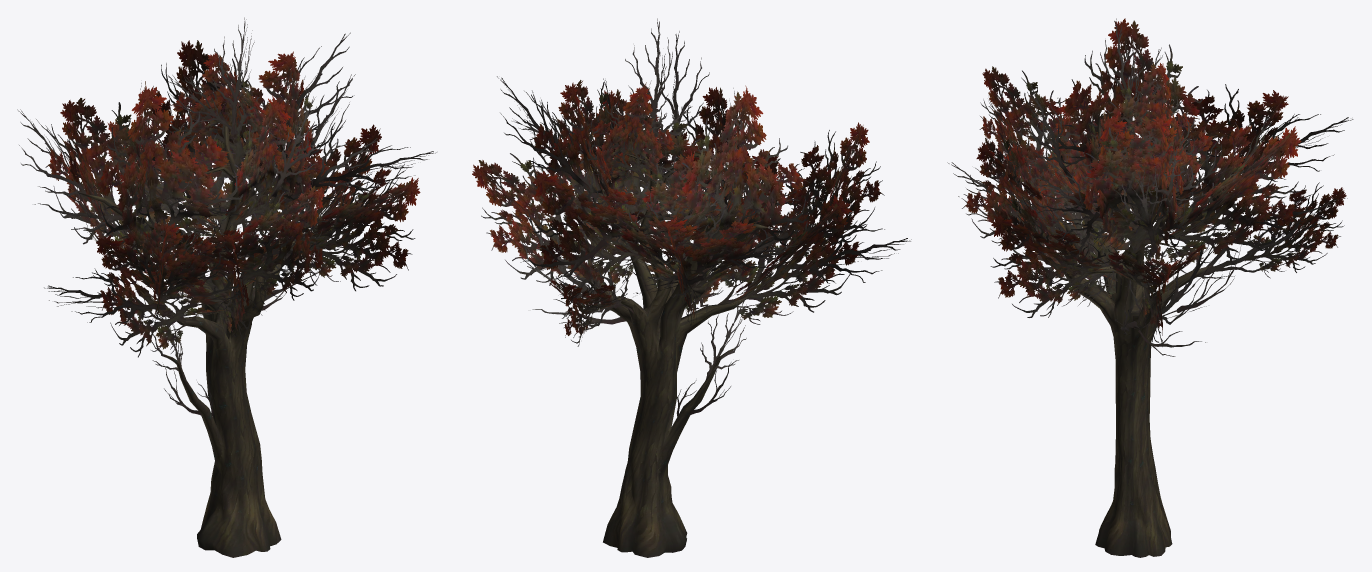
3 renders of one model, left to right at view 1: azimuth 30°, elevation 25°; view 2: azimuth 150°, elevation 25°; view 3: azimuth 270°, elevation 25°, orthographic. The views are drawn at different scales.
Size of the model in its own units: 48.74 by 60.55 by 43.17.
Materials: 2 (2 with a texture image).
